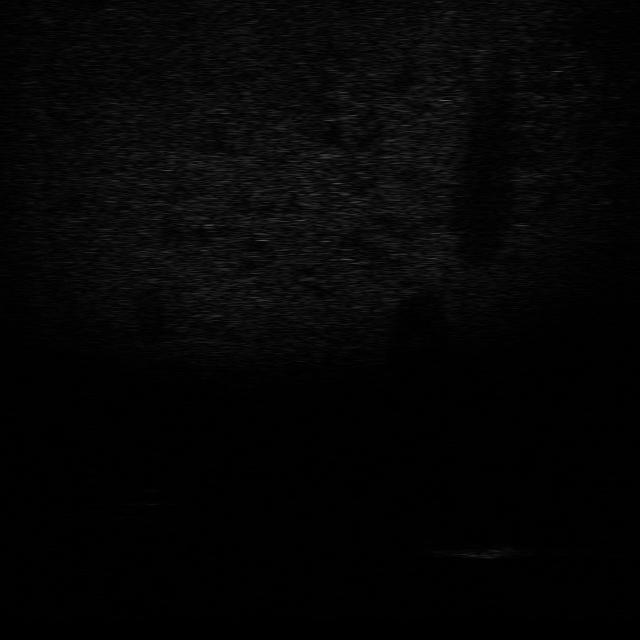ball: (120, 486, 176, 508)
metal bucket: (447, 537, 528, 563)
tyre: (390, 508, 448, 545)
